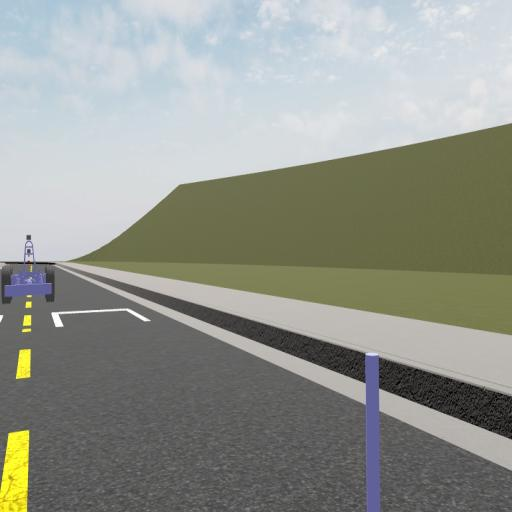ERP-42: (0, 237, 54, 303)
